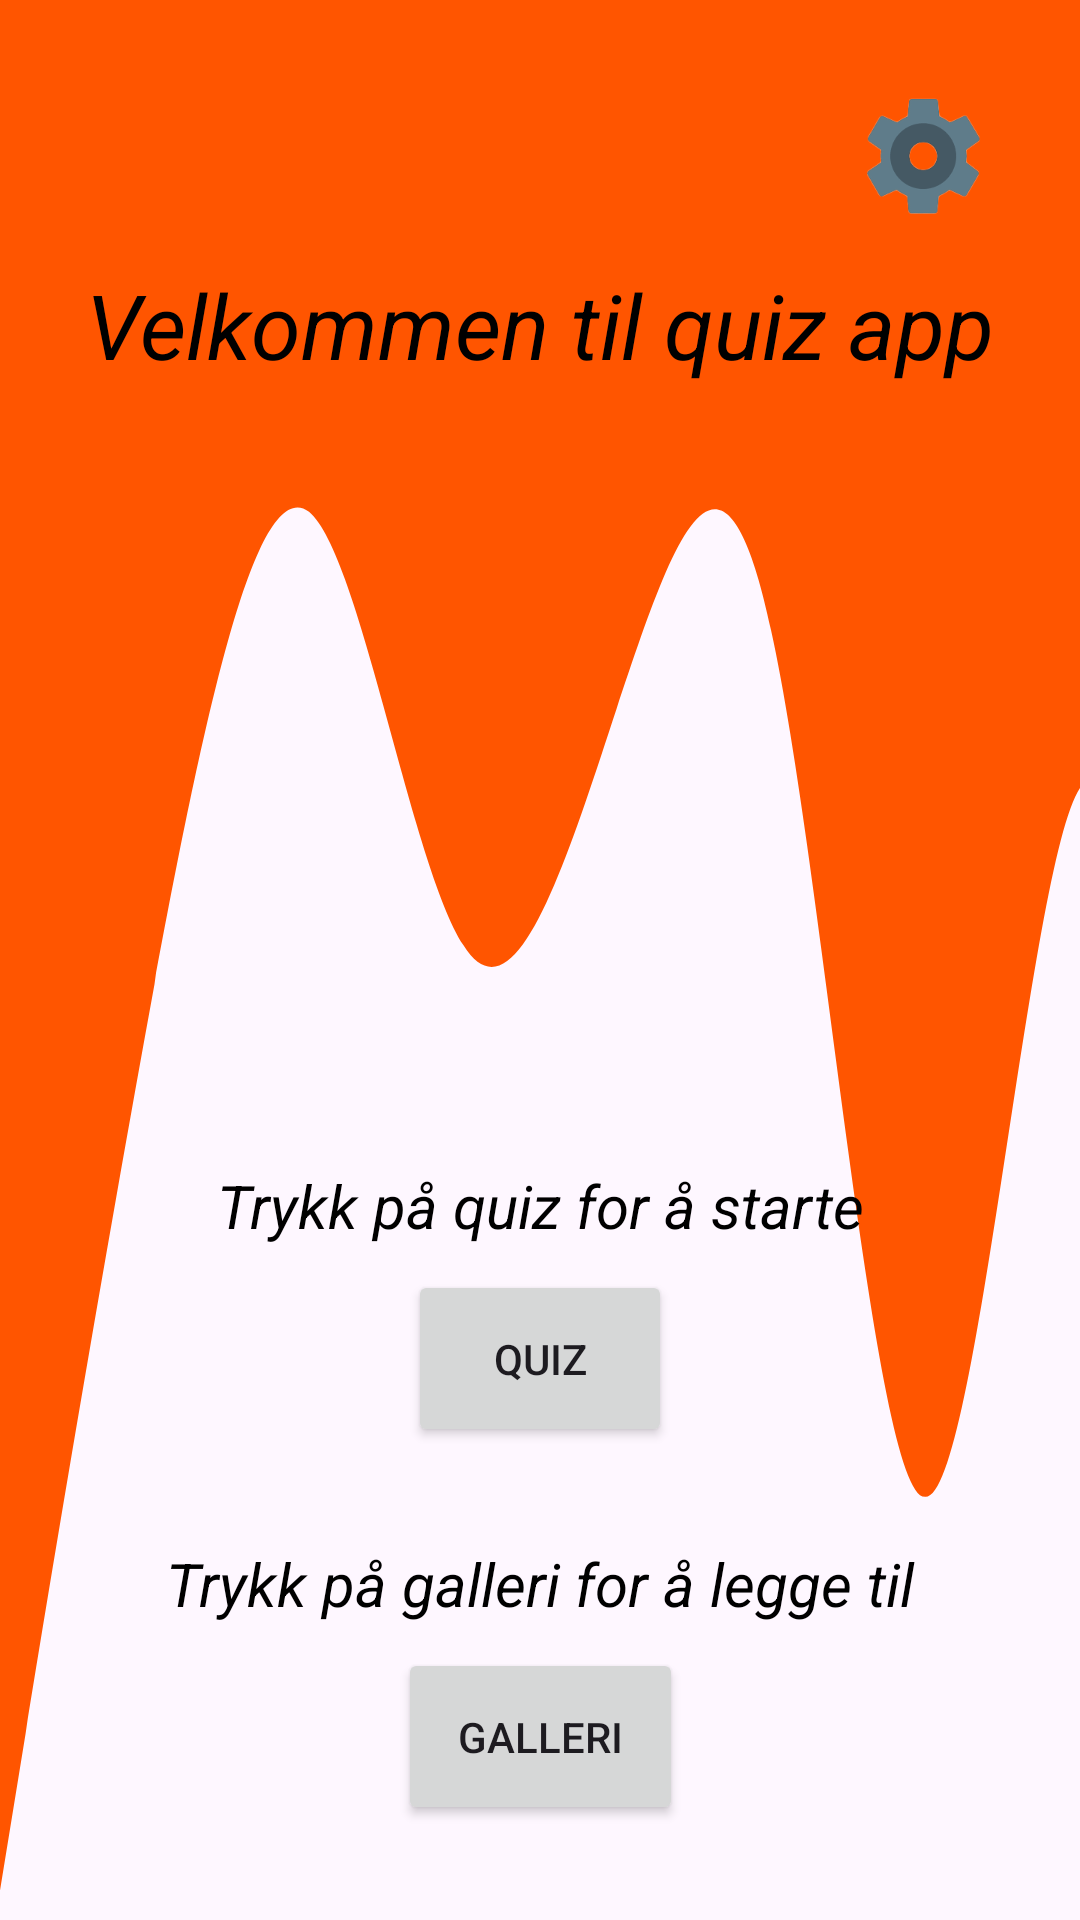

Screen size 1080 × 1920. Icon name, then its center in pixels as [x,y]:
Innstillingsknapp: [923,156]
